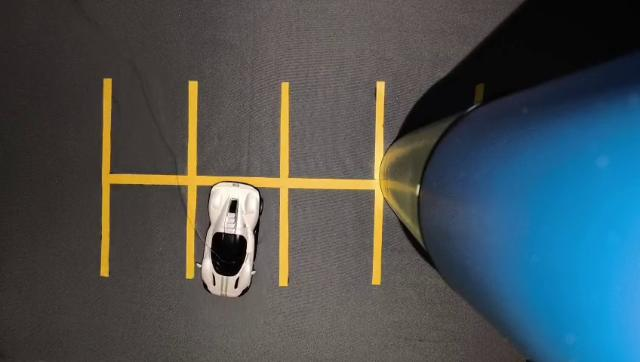toy_car: (186, 165, 282, 306)
